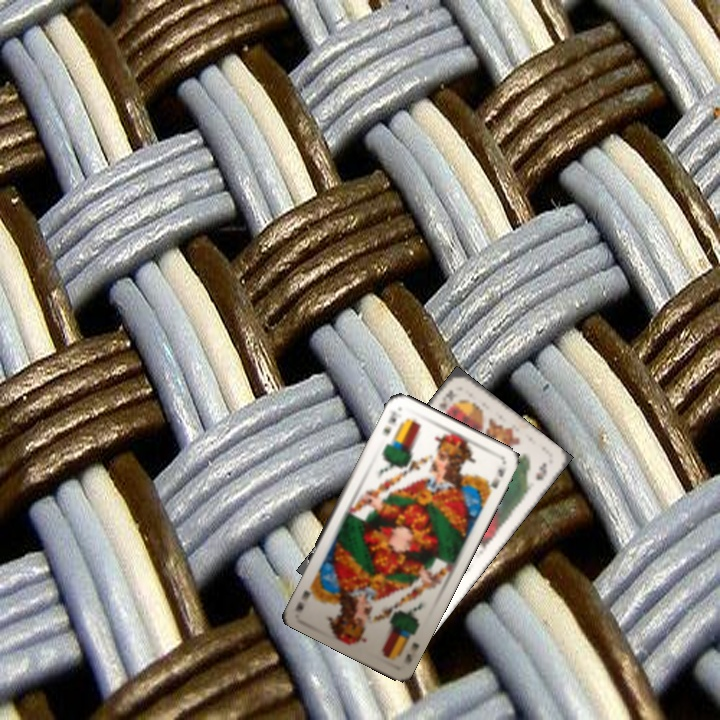EK: (400, 638, 422, 667), (379, 408, 399, 439)
SK: (435, 386, 459, 412)
